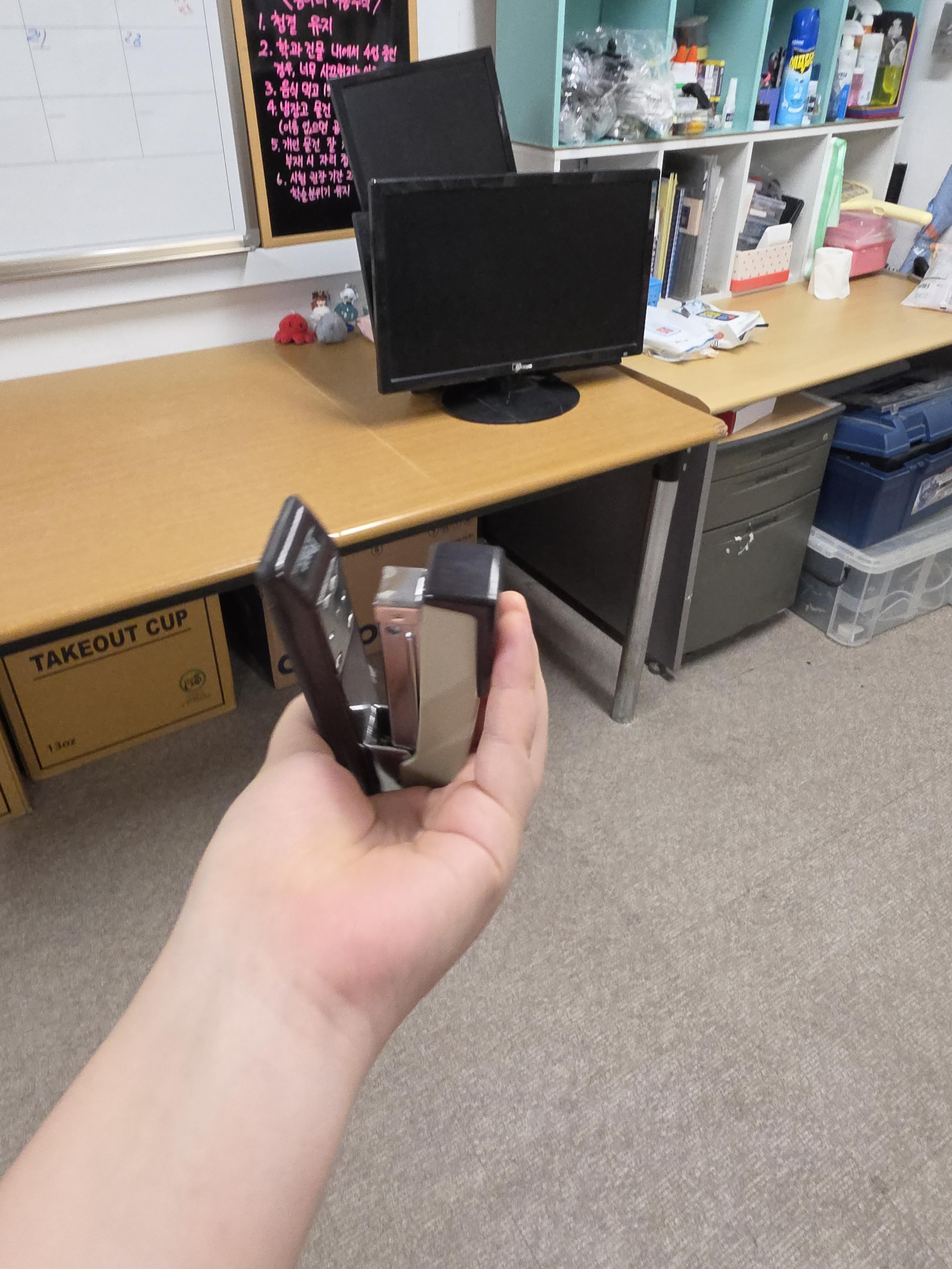stapler: (254, 494, 505, 796)
tissue: (730, 222, 792, 294), (808, 246, 853, 300)
